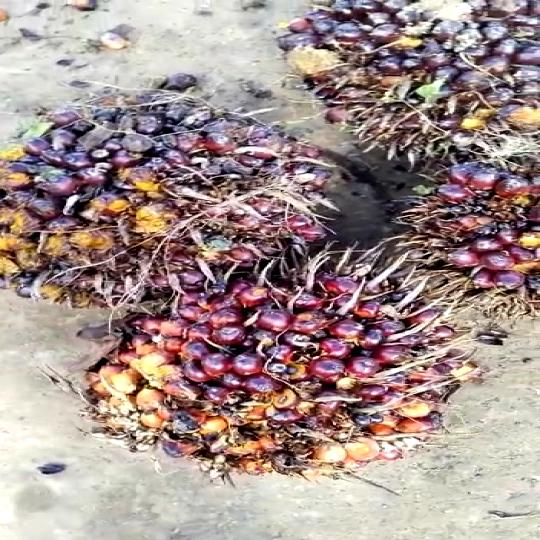masak: (81, 238, 468, 485), (0, 86, 364, 310)
